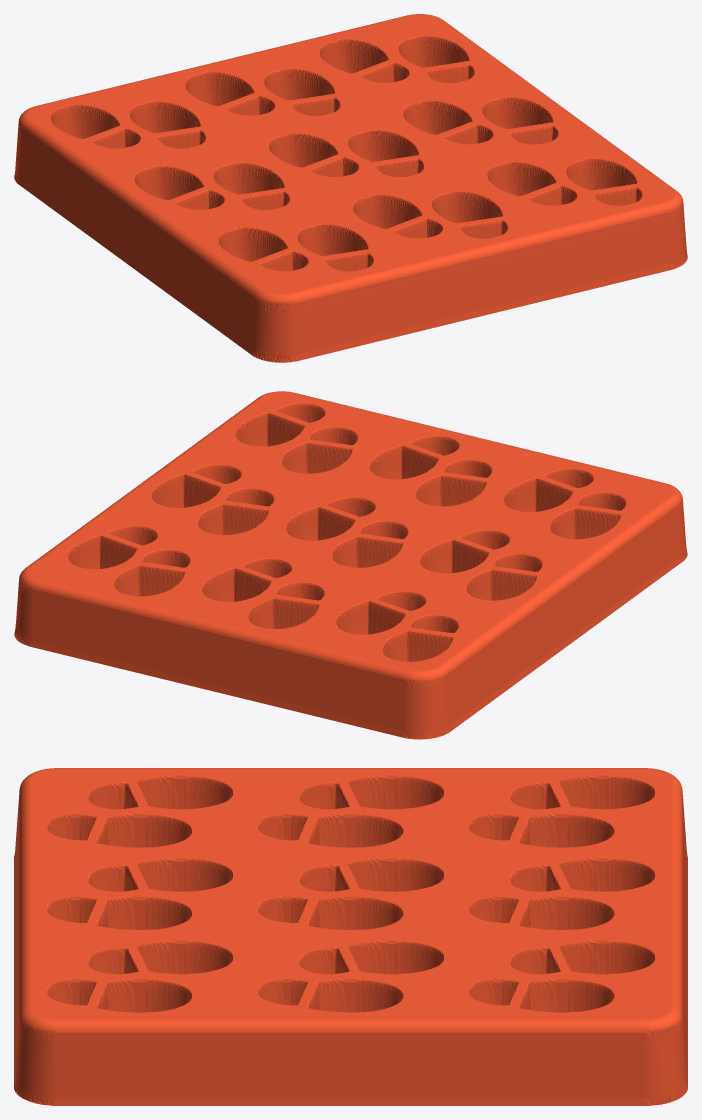
The model's file is mold.glb.
3 renders of one model, top to bottom at view 1: azimuth 30°, elevation 25°; view 2: azimuth 150°, elevation 25°; view 3: azimuth 270°, elevation 25°, orthographic. The views are drawn at different scales.
Visible parts, largest first — view 1: geometry_0; view 2: geometry_0; view 3: geometry_0.
Part boxes in pixels (<box>): geometry_0: <box>14,14,687,362</box>; geometry_0: <box>14,391,687,739</box>; geometry_0: <box>14,768,687,1105</box>.
Size of the model in its own units: 0.1303 by 0.0182 by 0.1402.
